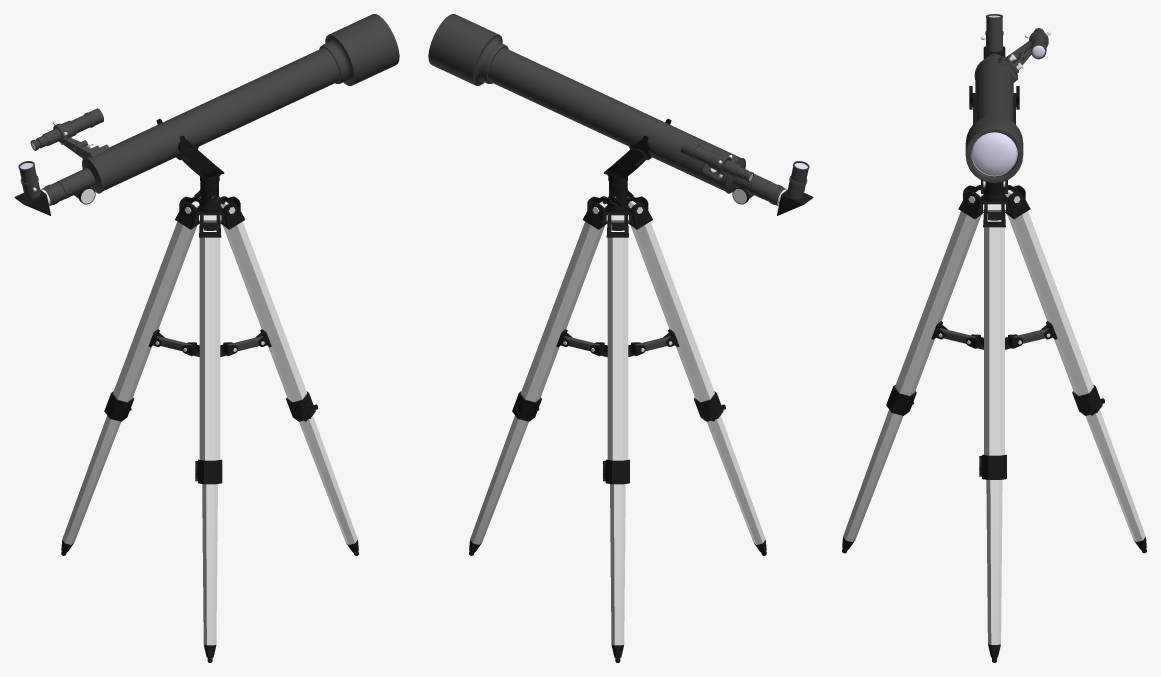
File: telescope.glb
The picture shows the model from 3 angles, left to right: view 1: azimuth 30°, elevation 25°; view 2: azimuth 150°, elevation 25°; view 3: azimuth 270°, elevation 25°; orthographic projection. The views are drawn at different scales.
Parts seen in each view (by area): view 1: Object_5, Object_3, Object_2; view 2: Object_5, Object_3, Object_2; view 3: Object_5, Object_3, Object_2, Object_4.
Boxes of the visible parts, x1,y1,x2,y2 form: Object_5: (32, 121, 357, 645); Object_3: (18, 14, 399, 351); Object_2: (14, 118, 358, 662); Object_5: (470, 155, 786, 645); Object_3: (428, 14, 809, 351); Object_2: (469, 118, 813, 662); Object_5: (843, 31, 1145, 644); Object_3: (940, 14, 1048, 343); Object_2: (842, 46, 1146, 662); Object_4: (971, 15, 1045, 176).
Bounding box in the file's own units: 1.27 × 1.75 × 0.8858.
